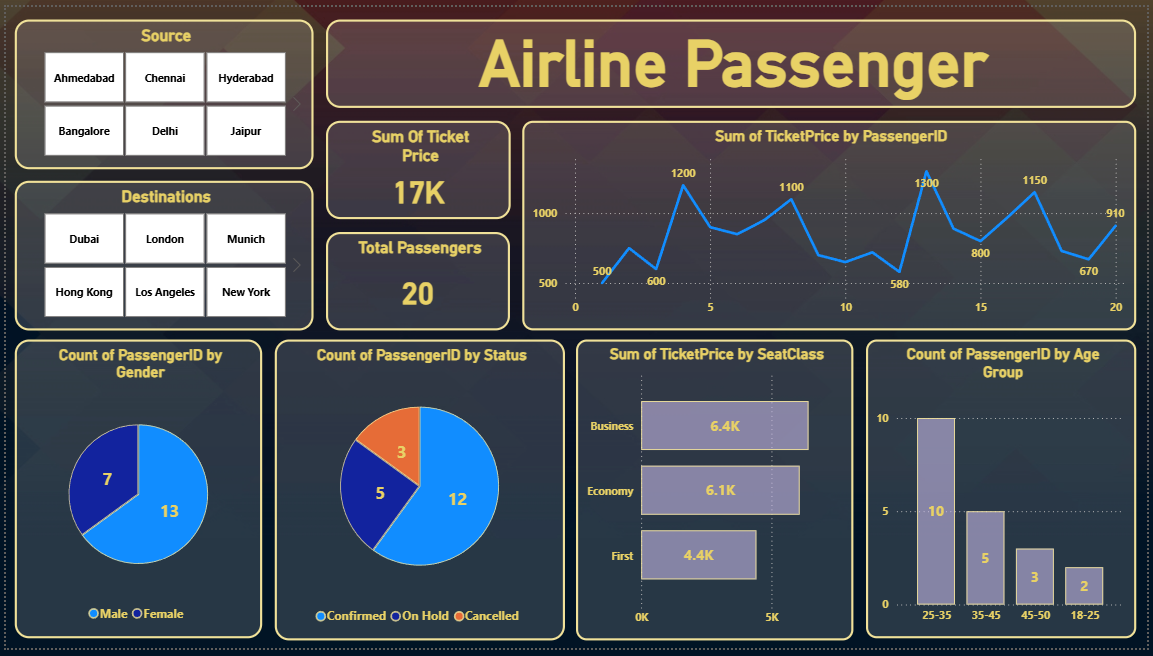

What the dashboard file says about the page in this screenshot:
{"tool":"powerbi","page":{"name":"Page 1","canvas":[1280,720],"ordinal":0},"visuals":[{"type":"columnChart","fields":{"Category":["airline_passengers_indian.Age Group"],"Y":["CountNonNull(airline_passengers_indian.PassengerID)"]},"box":[964.8,373,302.9,335.1],"z":0},{"type":"lineChart","fields":{"Category":["airline_passengers_indian.PassengerID"],"Y":["Sum(airline_passengers_indian.TicketPrice)"]},"box":[579.1,127.6,688.5,235.6],"z":1000},{"type":"pieChart","fields":{"Category":["airline_passengers_indian.Gender"],"Y":["CountNonNull(airline_passengers_indian.PassengerID)"]},"box":[9.8,373,277.7,335.1],"z":2000},{"type":"barChart","fields":{"Category":["airline_passengers_indian.SeatClass"],"Y":["Sum(airline_passengers_indian.TicketPrice)"]},"box":[639.4,373,311.3,337.9],"z":3000},{"type":"textbox","title":"Airline Passenger Report","box":[359,14,908.7,99.6],"z":4000},{"type":"pieChart","fields":{"Category":["airline_passengers_indian.Status"],"Y":["CountNonNull(airline_passengers_indian.PassengerID)"]},"box":[301.5,373,325.3,337.9],"z":5000},{"type":"card","title":"Sum Of Ticket Price","fields":{"Values":["Sum(airline_passengers_indian.TicketPrice)"]},"box":[359,127.6,207.5,110.8],"z":6000},{"type":"card","title":"Total Passengers","fields":{"Values":["CountNonNull(airline_passengers_indian.PassengerID)"]},"box":[359,252.4,206.1,110.8],"z":7000},{"type":"slicer","title":"Destinations","fields":{"Values":["airline_passengers_indian.Destination"]},"box":[9.8,194.9,335.1,168.3],"z":8000},{"type":"slicer","title":"Source","fields":{"Values":["airline_passengers_indian.Departure"]},"box":[9.8,14,335.1,168.3],"z":9000}]}

Visuals, with their boxes in screenshot pixels (x1, y1, x2, y2), scaled from the page's 1280x720 canvas onto the 1153x656 screenshot:
columnChart - airline_passengers_indian.Age Group x CountNonNull(airline_passengers_indian.PassengerID): region(869, 340, 1142, 645)
lineChart - airline_passengers_indian.PassengerID x Sum(airline_passengers_indian.TicketPrice): region(522, 116, 1142, 331)
pieChart - airline_passengers_indian.Gender x CountNonNull(airline_passengers_indian.PassengerID): region(9, 340, 259, 645)
barChart - airline_passengers_indian.SeatClass x Sum(airline_passengers_indian.TicketPrice): region(576, 340, 856, 648)
"Airline Passenger Report" textbox: region(323, 13, 1142, 104)
pieChart - airline_passengers_indian.Status x CountNonNull(airline_passengers_indian.PassengerID): region(272, 340, 565, 648)
"Sum Of Ticket Price" card: region(323, 116, 510, 217)
"Total Passengers" card: region(323, 230, 509, 331)
"Destinations" slicer: region(9, 178, 311, 331)
"Source" slicer: region(9, 13, 311, 166)
